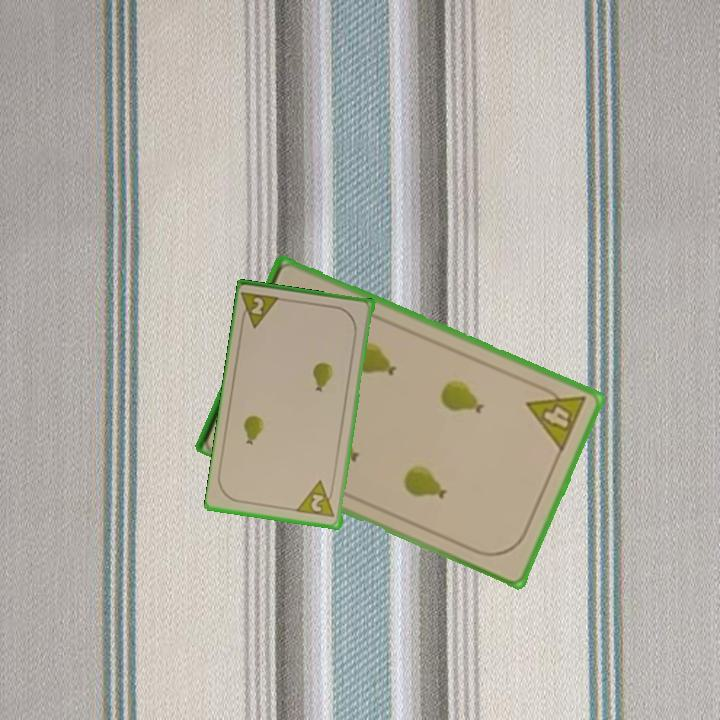2p: (295, 477, 338, 521), (248, 293, 267, 318)
4p: (523, 379, 589, 455)
